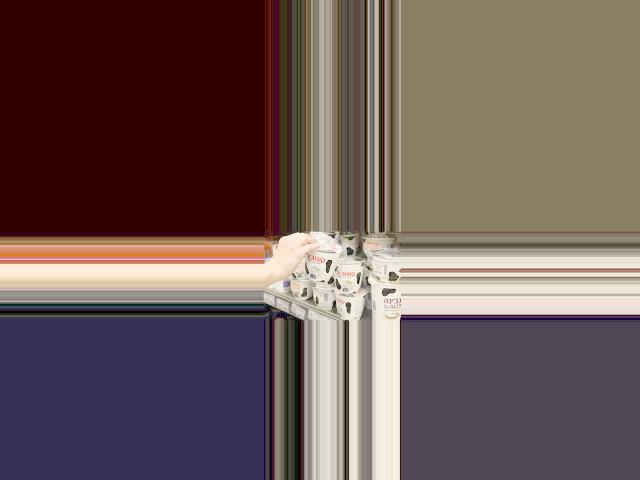cotage: (306, 244, 342, 281)
